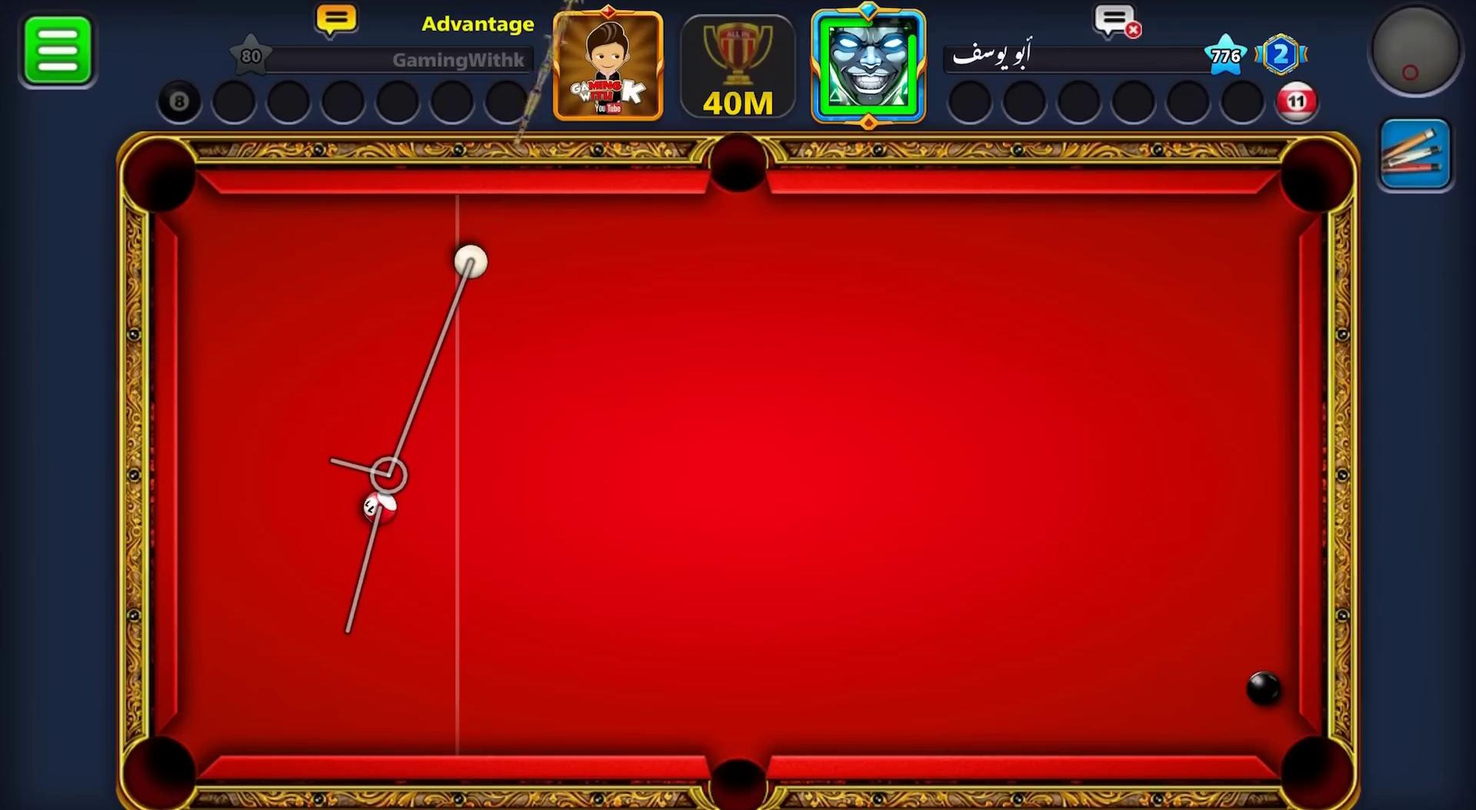Ball: (1237, 662, 1294, 709), (358, 486, 398, 532)
Guideline: (319, 260, 480, 642)
Hole: (1256, 718, 1372, 809), (1278, 137, 1355, 217), (122, 732, 199, 808), (122, 135, 198, 212), (707, 132, 768, 192), (705, 755, 769, 809)
Play_Area: (182, 194, 1293, 757)
Spin: (1364, 1, 1474, 105)
White: (449, 239, 488, 280)
